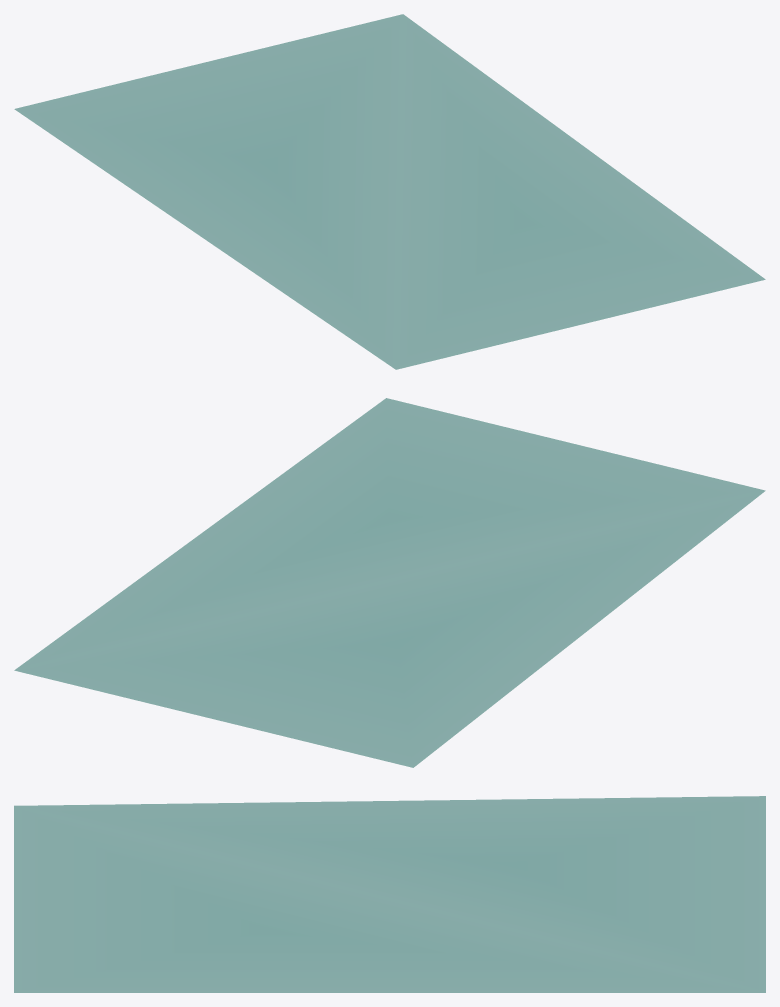
File: water-19-2.glb
3 views of the same model, one above another, from view 1: azimuth 30°, elevation 25°; view 2: azimuth 150°, elevation 25°; view 3: azimuth 270°, elevation 25° (orthographic). The views are drawn at different scales.
Size of the model in its own units: 9.91 by 0 by 16.
